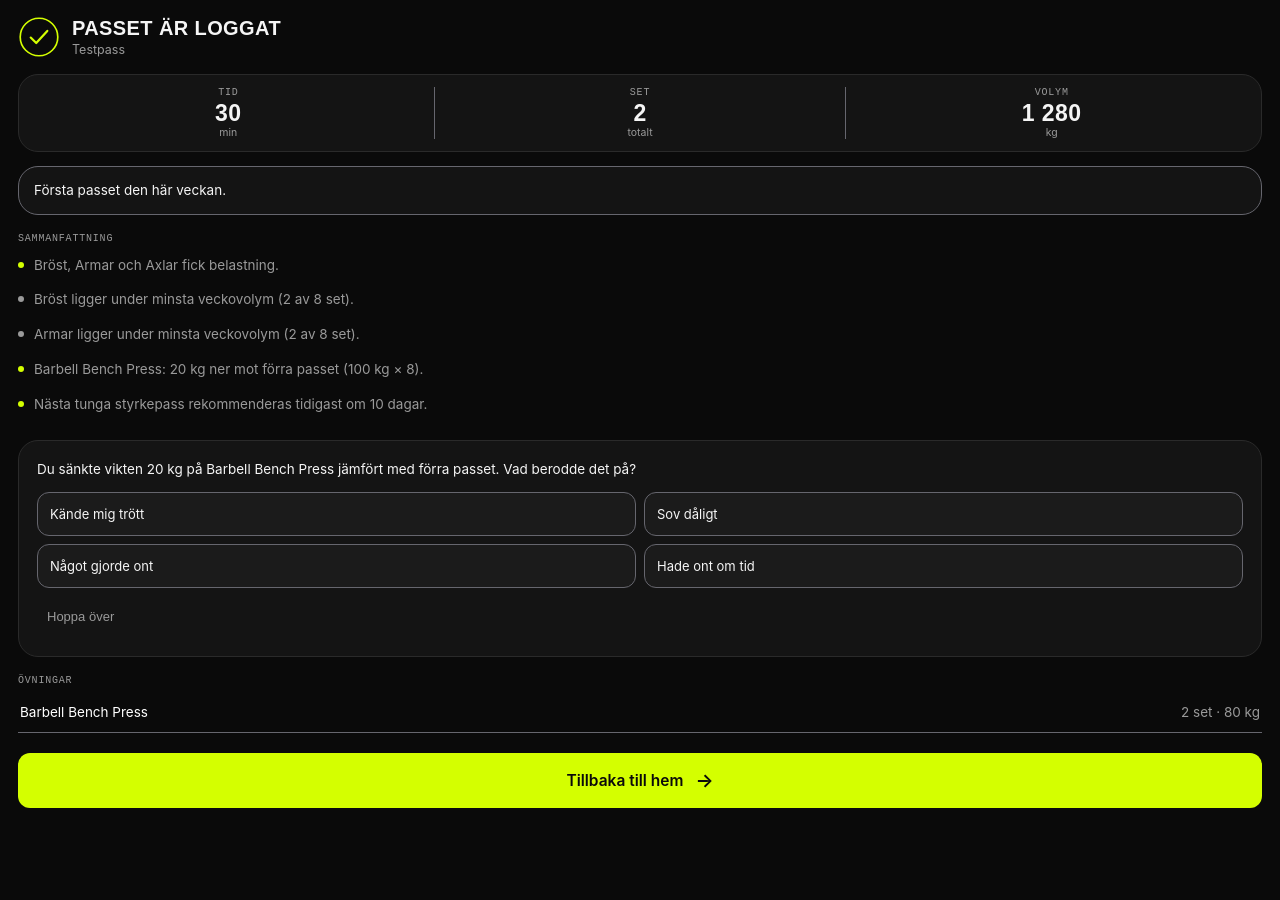
Test case: rendering — arket och kvittot › hoppa över sparar ingenting
This screenshot has width=1280, height=900.
Click the button "Hoppa över": (81, 616) [37,594,124,638]
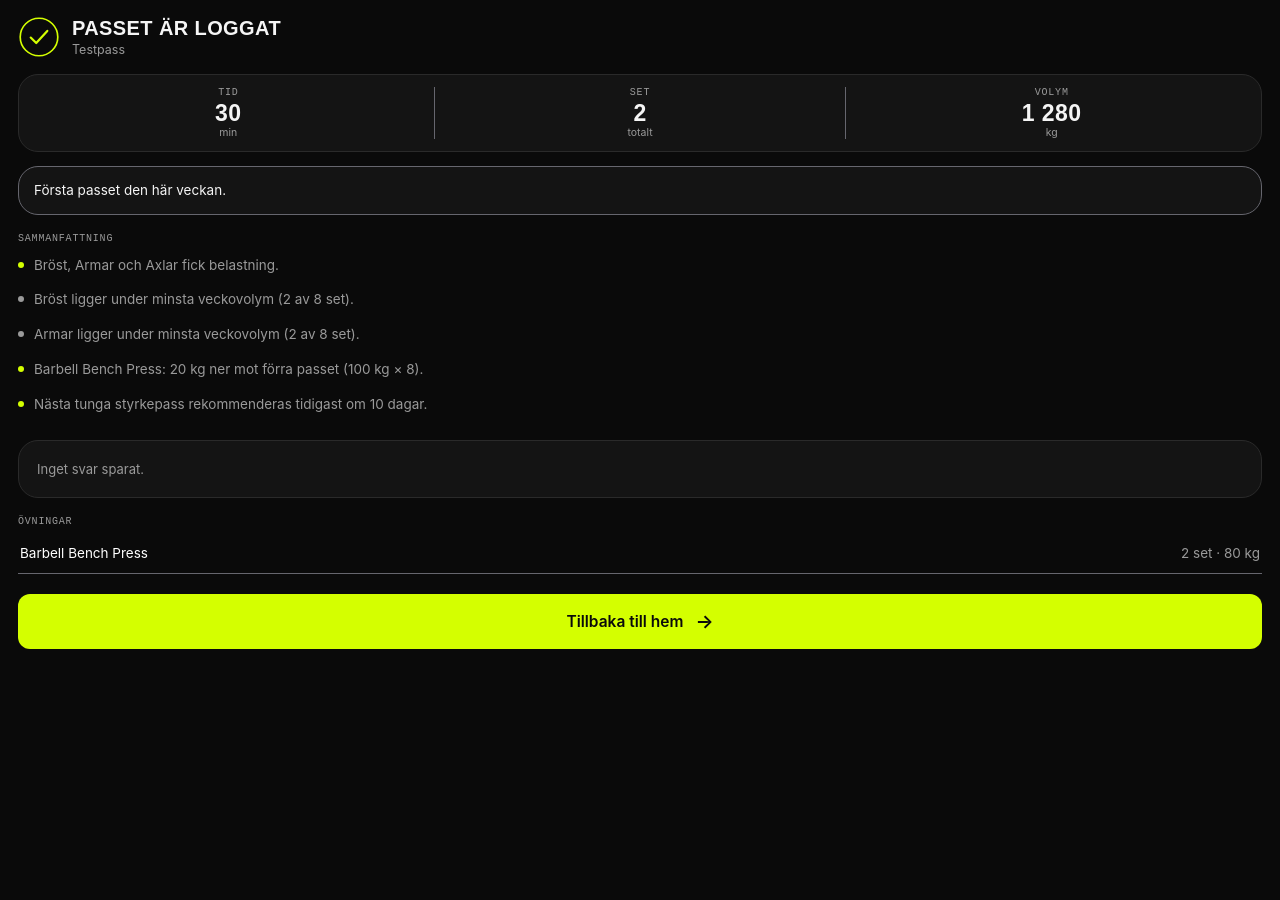
Check: the text "Inget svar sparat" is shown, box [37,461,144,477]
